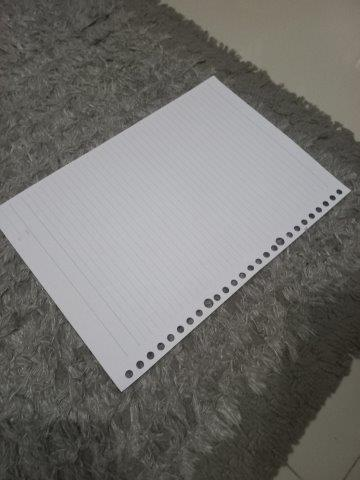kertas: (1, 76, 351, 391)
